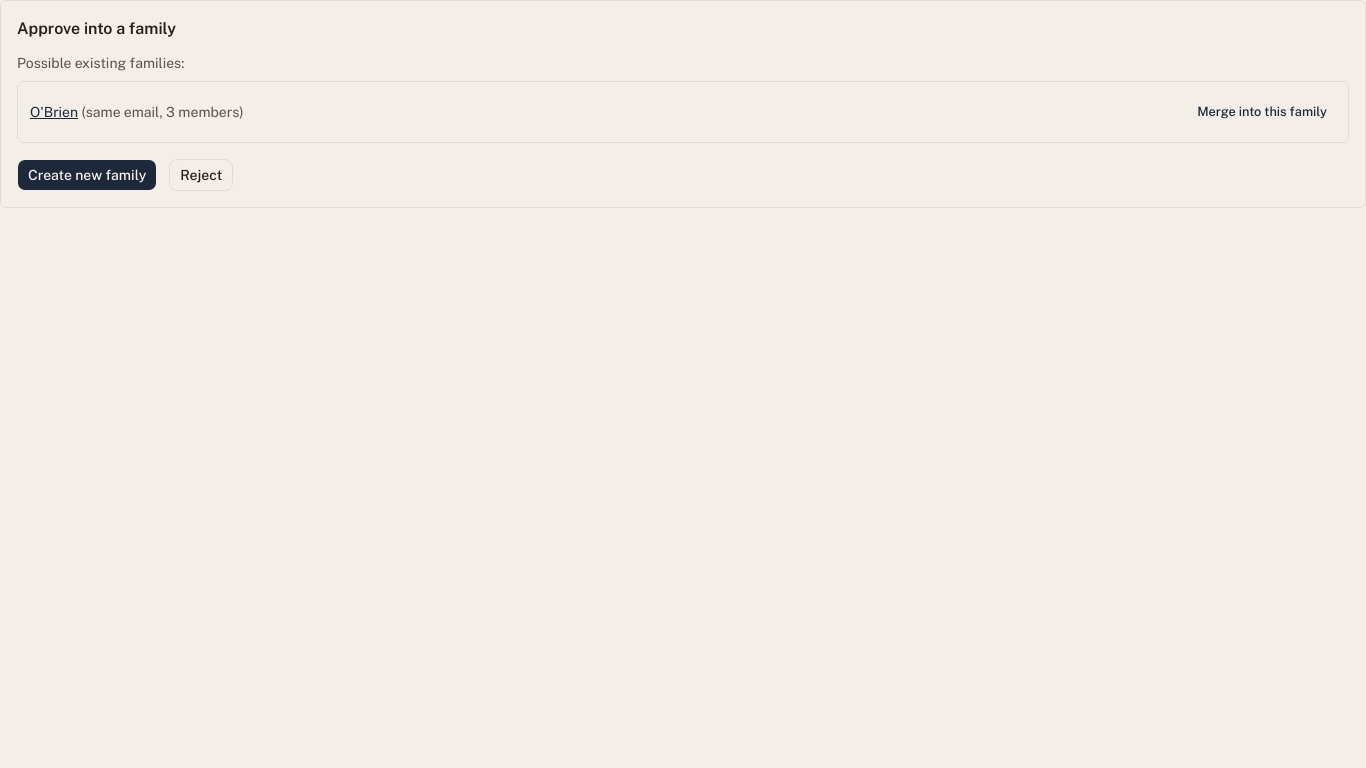
Test: asks for confirmation naming the family and the people, without calling the action
Click the button "Merge into this family".
click(1262, 112)  # box x1=1188 y1=90 x2=1336 y2=134
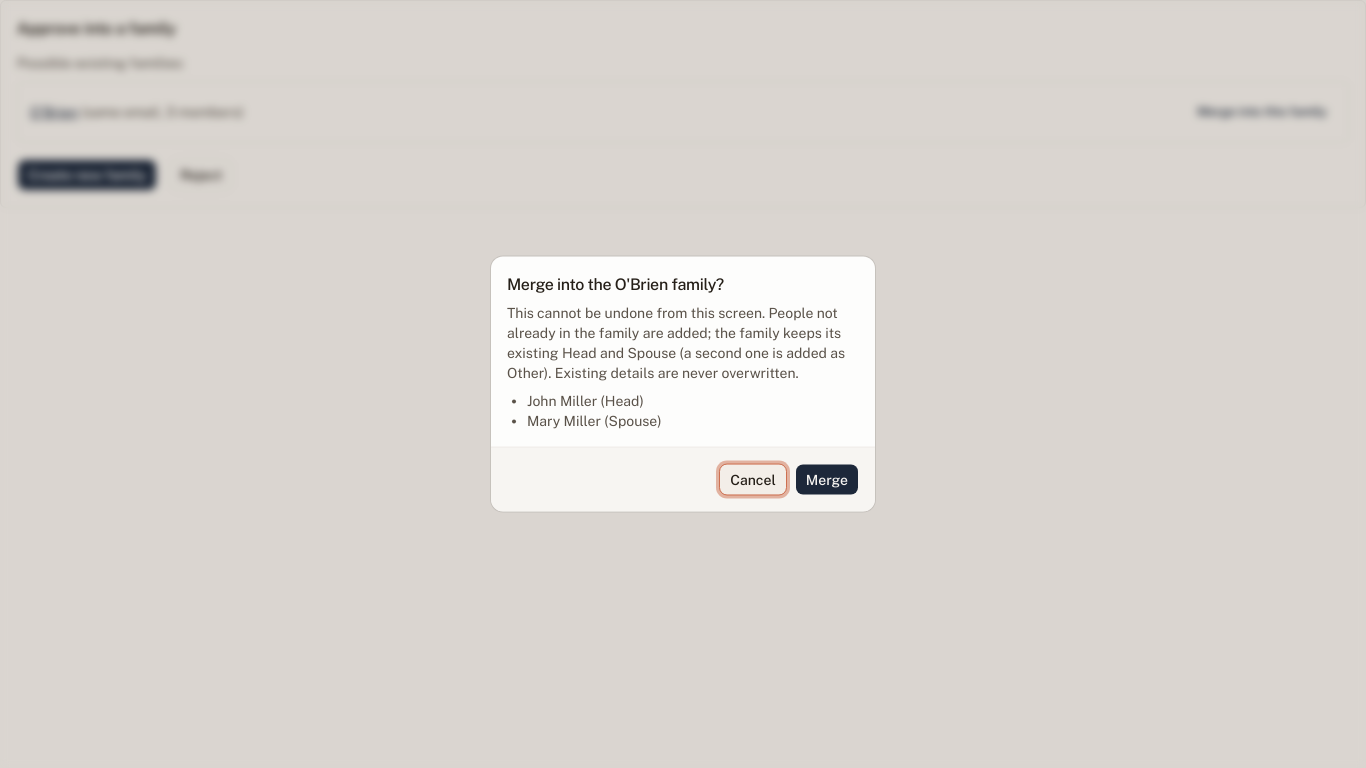
expect the dialog shows "O'Brien": met, box x1=615 y1=274 x2=668 y2=294
expect the dialog shows "John Miller": met, box x1=527 y1=392 x2=597 y2=408
expect the dialog shows "Mary Miller": met, box x1=527 y1=412 x2=601 y2=428
